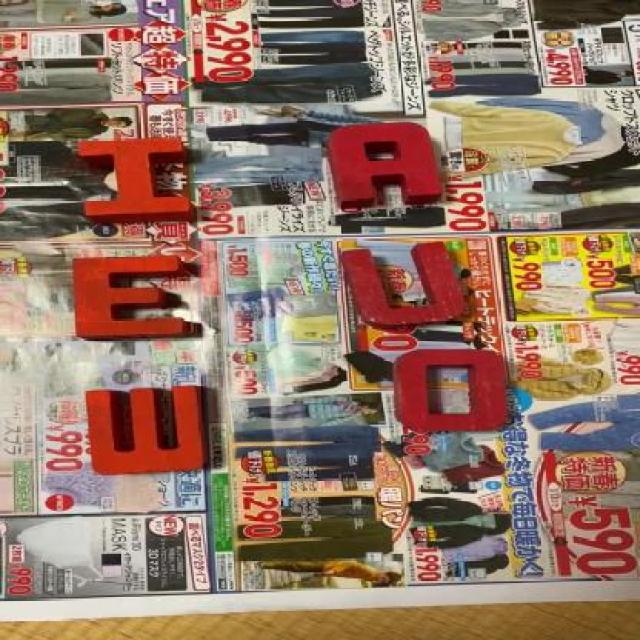A: (323, 120, 442, 203)
E: (72, 256, 192, 341)
I: (76, 137, 192, 221)
O: (385, 349, 510, 434)
U: (350, 240, 482, 332)
W: (82, 387, 213, 476)
